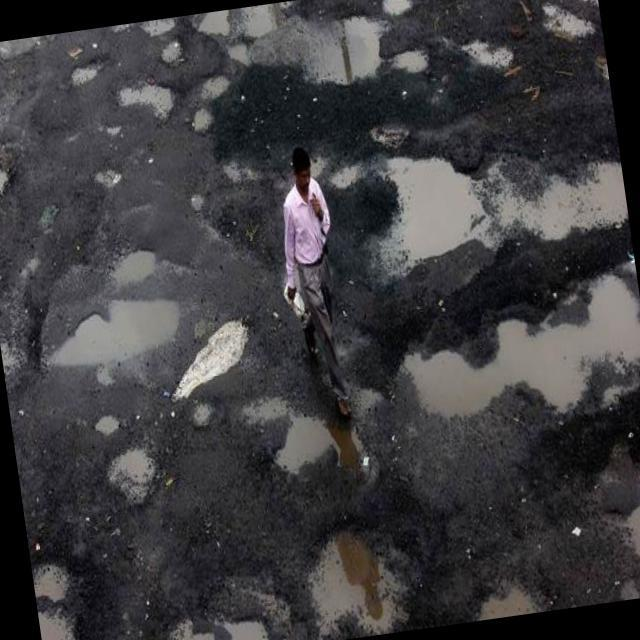Pothole: (393, 263, 640, 467), (286, 502, 438, 640), (40, 278, 198, 382), (518, 143, 632, 259), (379, 147, 489, 266), (270, 386, 376, 500), (148, 573, 289, 640), (295, 0, 395, 93), (97, 438, 167, 504), (468, 564, 548, 621), (116, 65, 180, 134), (619, 470, 640, 598), (466, 28, 516, 76), (541, 0, 594, 44), (33, 552, 71, 607), (37, 602, 84, 640), (238, 3, 284, 41), (392, 41, 434, 81), (371, 114, 412, 154), (223, 32, 260, 72), (90, 406, 126, 445), (198, 65, 232, 104), (65, 56, 109, 86), (92, 160, 126, 198), (194, 10, 236, 40), (332, 156, 364, 193), (0, 149, 17, 216), (188, 396, 222, 428), (140, 18, 178, 45), (158, 35, 186, 67), (191, 103, 211, 137), (547, 0, 598, 11), (382, 0, 413, 18)
